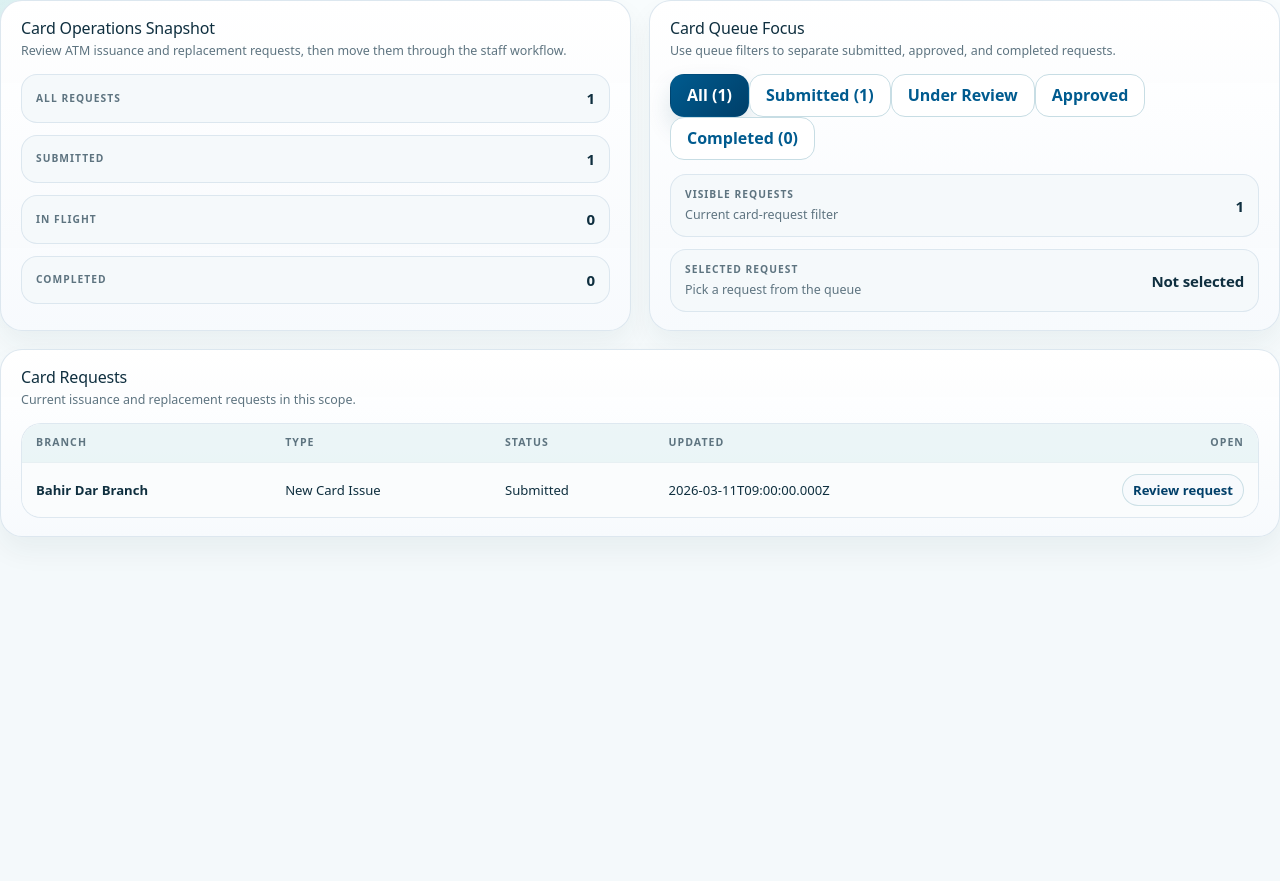
Test: CardOperationsPage › moves a card request into under review from the manager workspace
Expected: the text "New Card Issue" is shown, [271,463,491,517]
Click the button "Review request". click: (1183, 490)
box: [1122,474,1244,506]
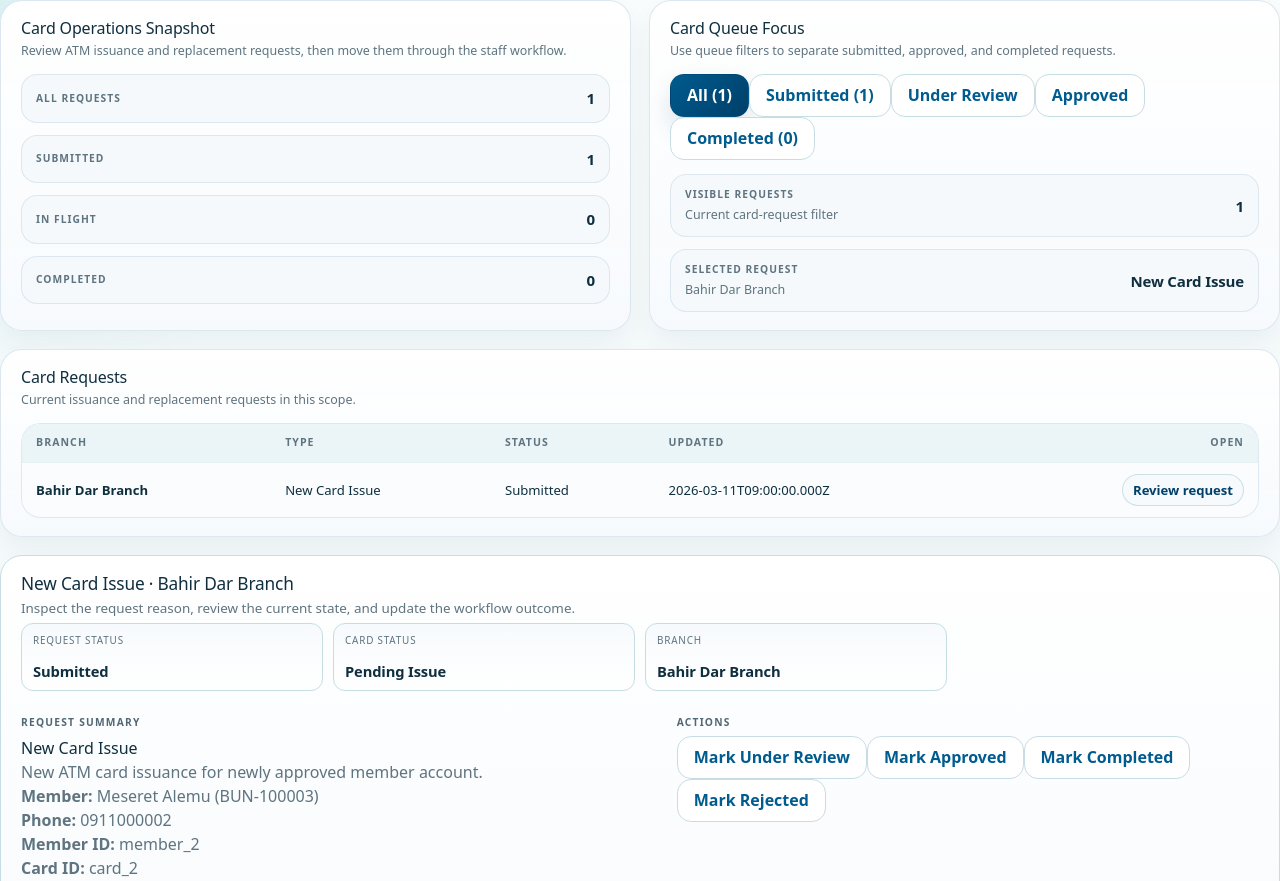
Result: the text "Meseret Alemu (BUN-100003)" is shown at [21,785,319,807]
Click the button "Mark Under Review". click: (772, 757)
box: [677,736,867,779]
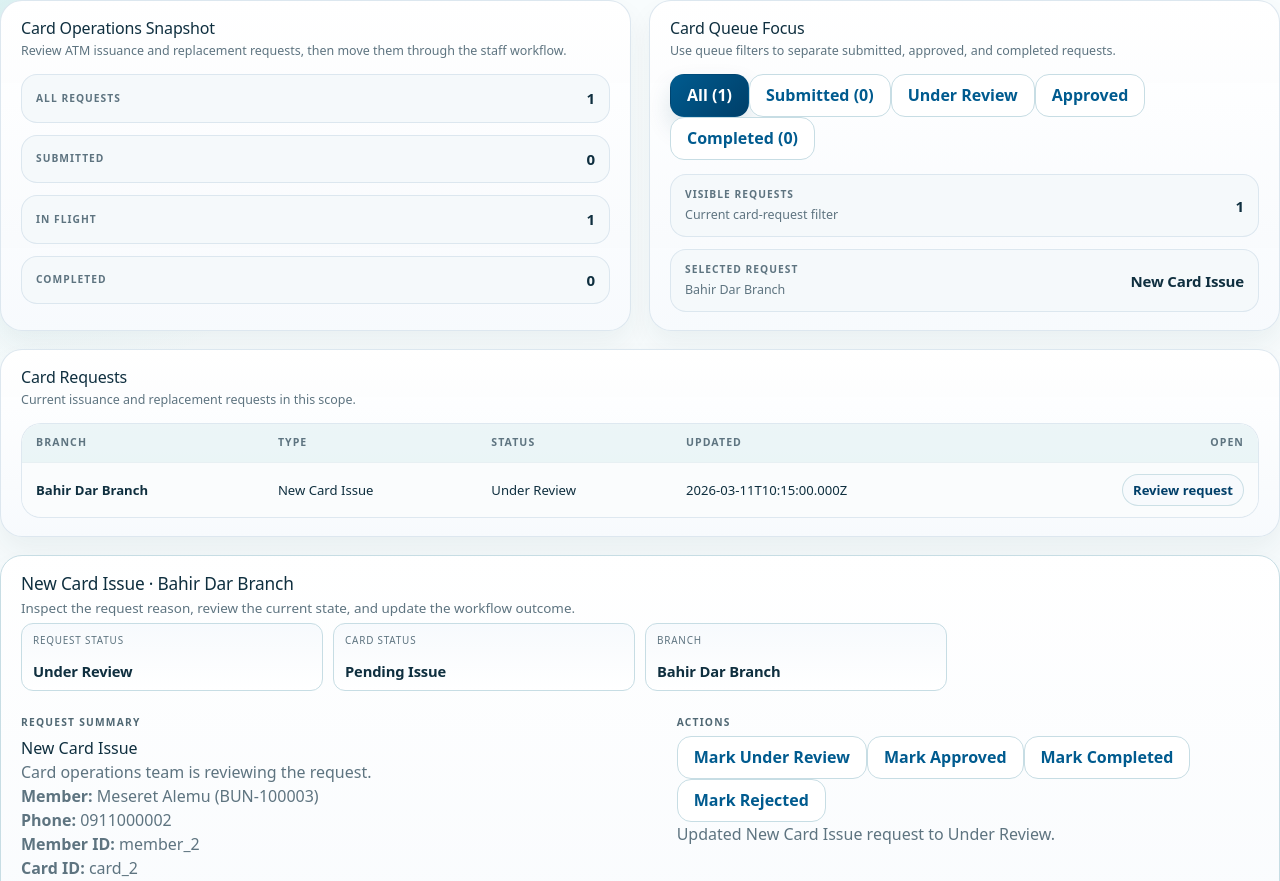
Expected: the button "Under Review" is shown, [891,74,1035,117]
Result: the text "Updated New Card Issue request to Under Review." is shown at [677,823,1055,845]
